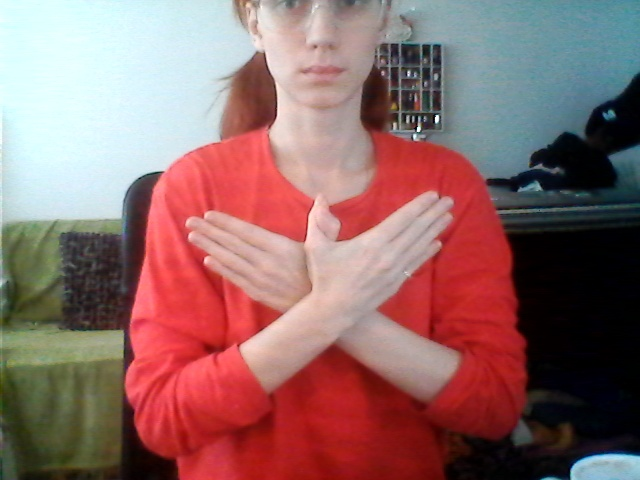lekar: (181, 187, 460, 321)
